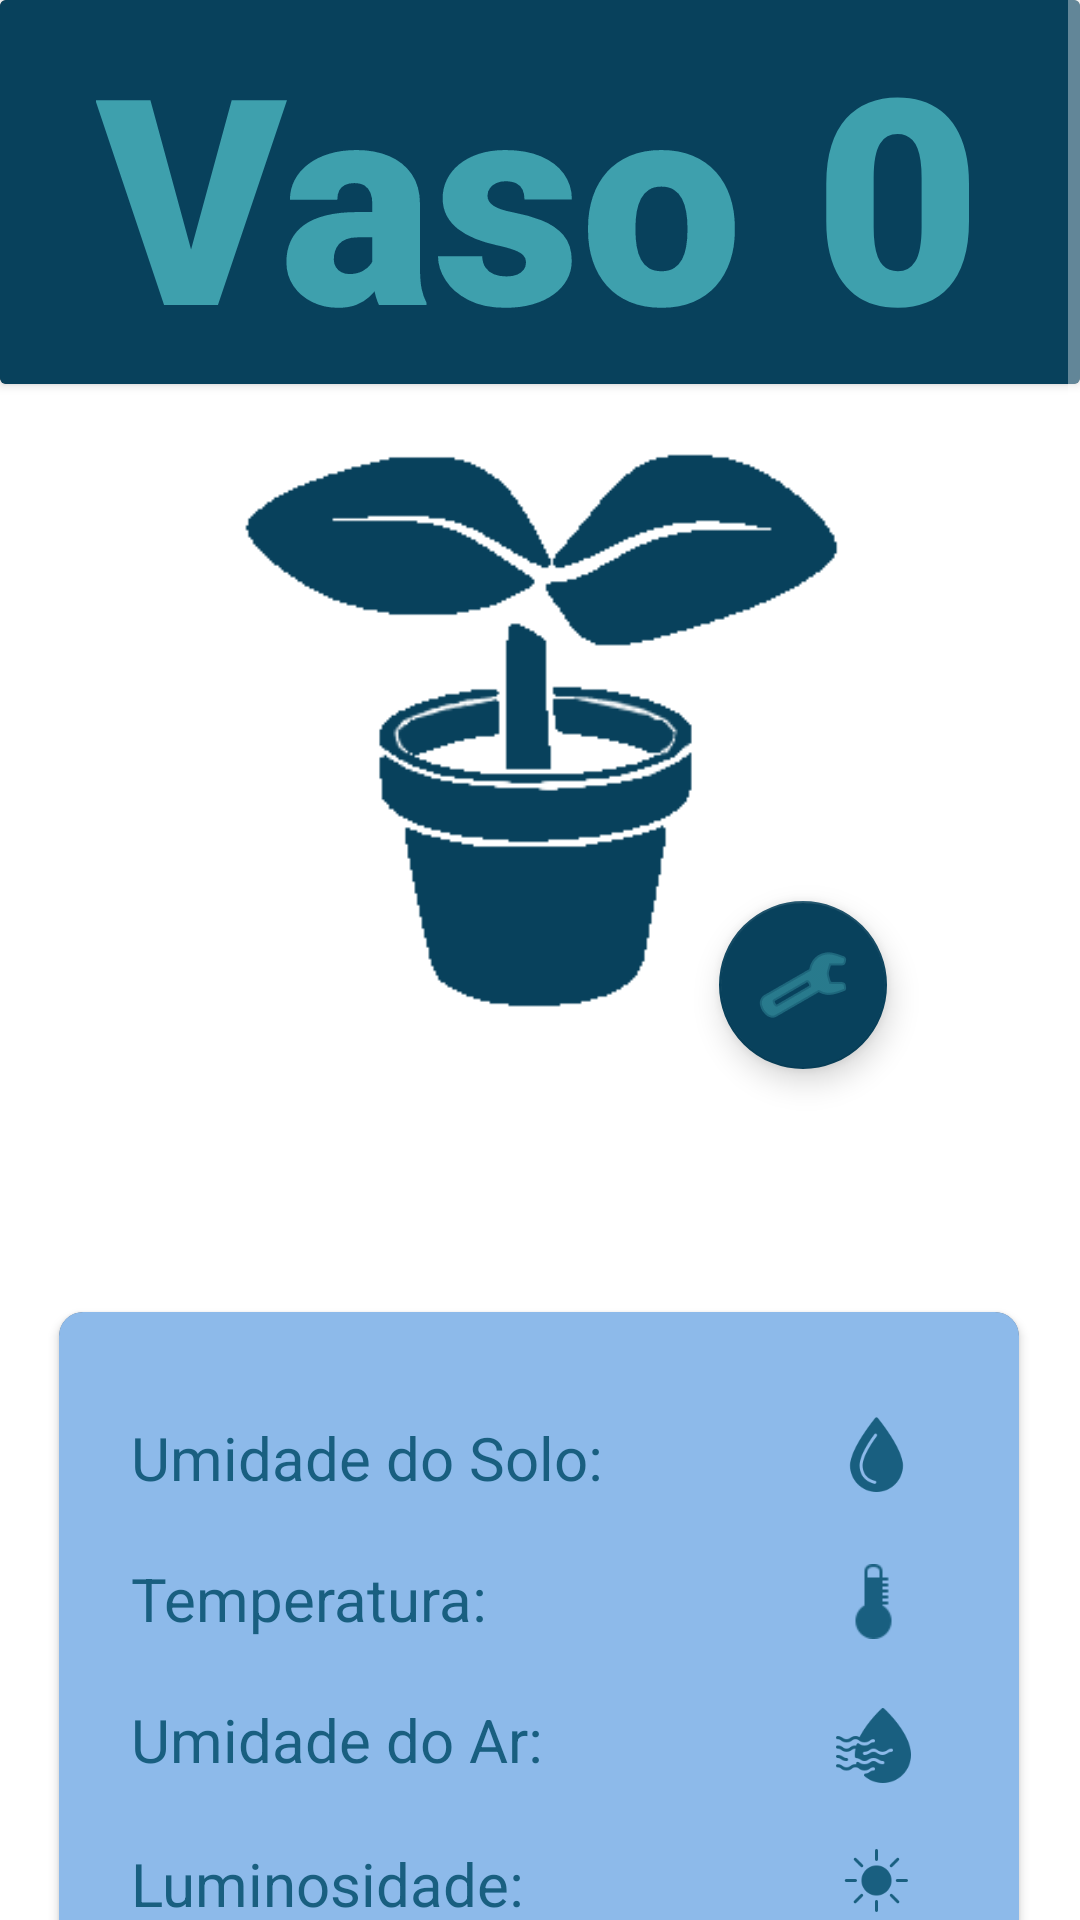

Where icons sit on this 1080*1920 app screen, as (x1, y1, x2, y2):
luminosidade: (845, 1849, 908, 1912)
temperatura: (855, 1564, 892, 1639)
umidadear: (836, 1708, 911, 1783)
umidadesolo: (850, 1417, 903, 1492)
